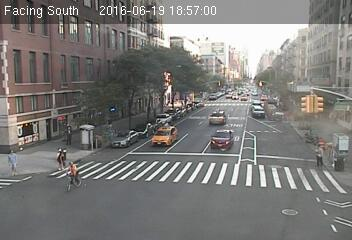neg: (61, 161, 84, 191), (262, 76, 279, 98), (216, 120, 230, 139), (186, 134, 200, 152)
pos: (3, 149, 23, 174), (311, 144, 330, 170), (61, 123, 77, 144), (56, 148, 71, 168)
